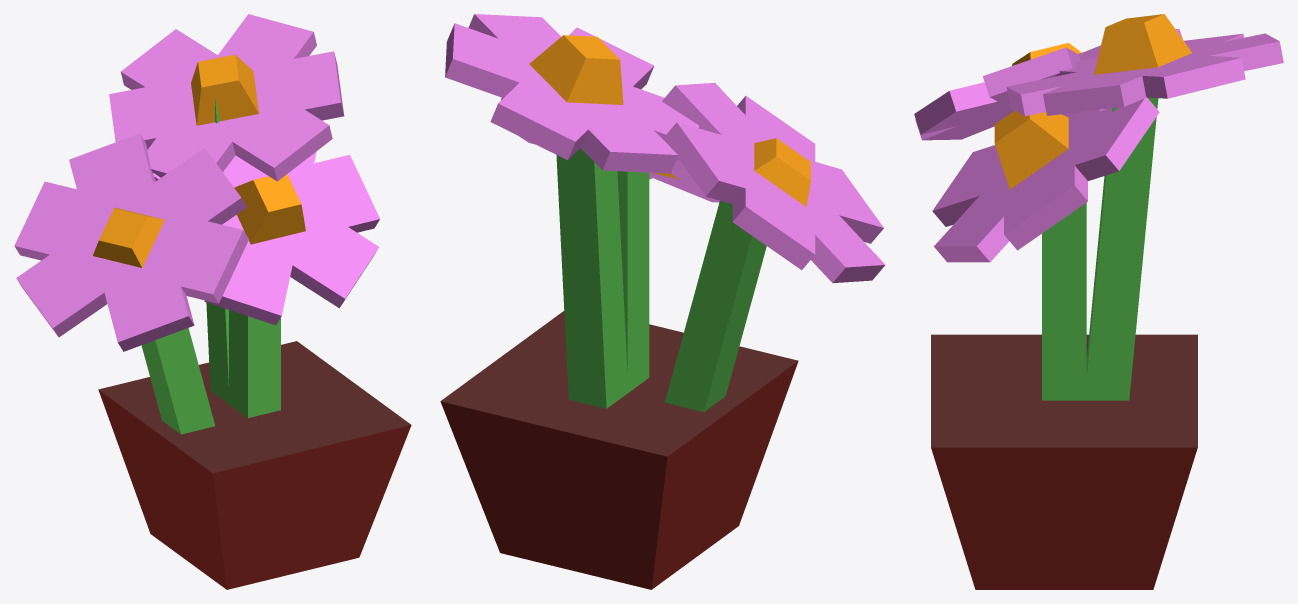
File: vaso di fiori2.gltf
The picture shows the model from 3 angles, left to right: view 1: azimuth 30°, elevation 25°; view 2: azimuth 150°, elevation 25°; view 3: azimuth 270°, elevation 25°; orthographic projection. The views are drawn at different scales.
Visible parts, largest first — view 1: cuboid; view 2: cuboid; view 3: cuboid.
Part boxes in pixels (x1,y1,x2,y2): cuboid: (14, 14, 411, 589); cuboid: (440, 14, 885, 589); cuboid: (914, 14, 1283, 589).
Bounding box in the file's own units: 1.23 × 1.67 × 1.04.
Materials: 1 (1 with a texture image).
